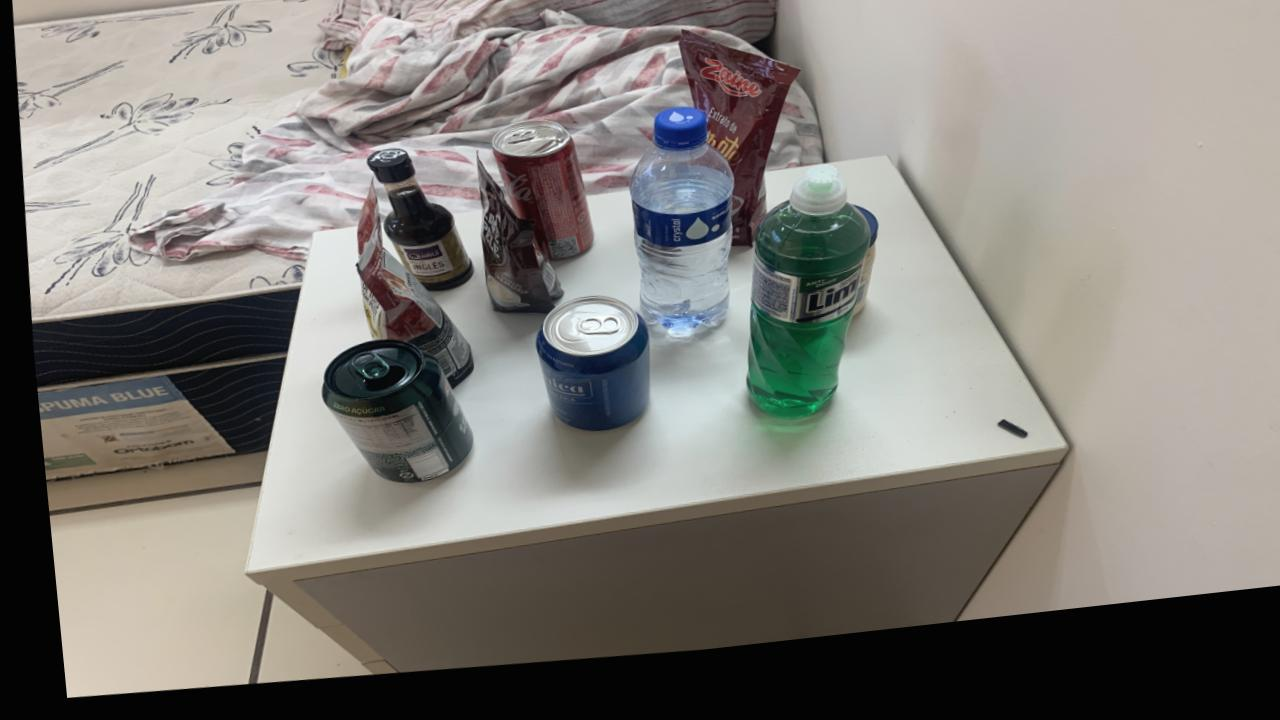Coffee-Pantry_Items: (474, 169, 557, 325)
Coke-Drinks: (488, 132, 587, 272)
Detergent-Cleanup_Items: (738, 183, 864, 436)
English_Sauce-Pantry_Items: (363, 156, 468, 300)
Guarana_Can-Drinks: (312, 349, 463, 492)
Mayonnaise-Pantry_Items: (846, 225, 873, 334)
Tomato_Sauce-Pantry_Items: (677, 45, 797, 263), (350, 194, 465, 397)
Tonic-Drinks: (528, 310, 641, 444)
Water_Bottle-Drinks: (625, 122, 729, 351)
